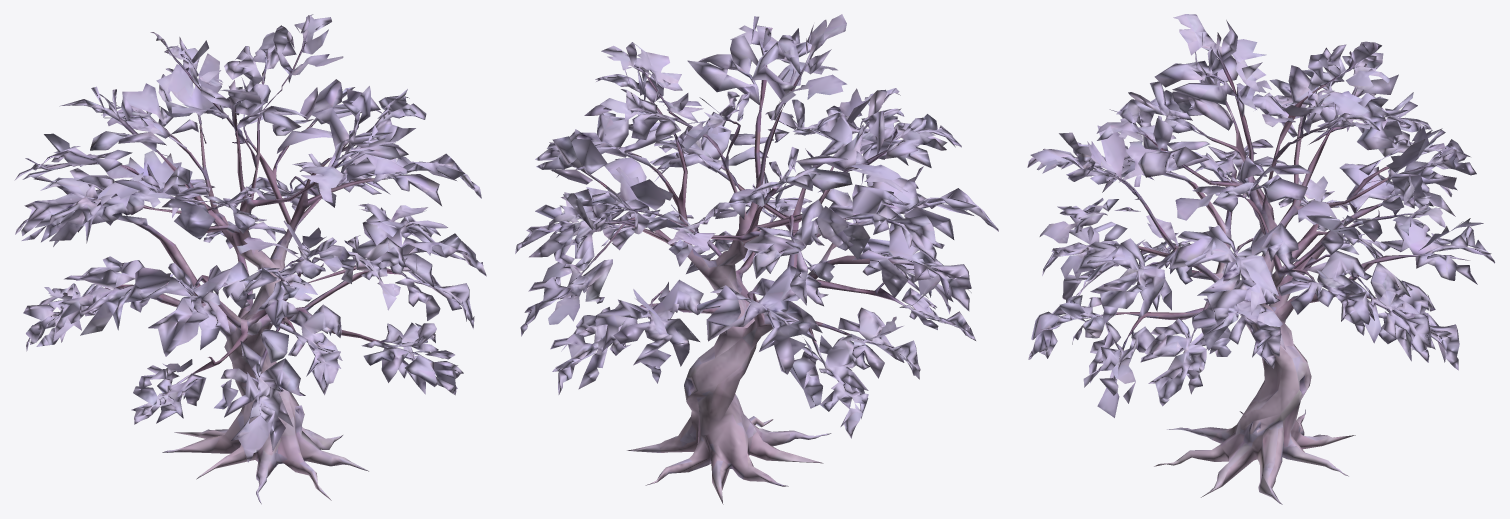
The model's file is HuanYinShu.glb.
The picture shows the model from 3 angles, left to right: view 1: azimuth 30°, elevation 25°; view 2: azimuth 150°, elevation 25°; view 3: azimuth 270°, elevation 25°; orthographic projection. The views are drawn at different scales.
Parts seen in each view (by area): view 1: tripo_node_87cefcba-e6ea-462e-b81e-69c38117922e; view 2: tripo_node_87cefcba-e6ea-462e-b81e-69c38117922e; view 3: tripo_node_87cefcba-e6ea-462e-b81e-69c38117922e.
Boxes of the visible parts, box(x1,y1,x2,y2) form: tripo_node_87cefcba-e6ea-462e-b81e-69c38117922e: box(14, 14, 486, 504); tripo_node_87cefcba-e6ea-462e-b81e-69c38117922e: box(515, 14, 998, 504); tripo_node_87cefcba-e6ea-462e-b81e-69c38117922e: box(1027, 14, 1494, 504).
Size of the model in its own units: 0.998 by 0.9726 by 0.9941.
Materials: 1 (1 with a texture image).
